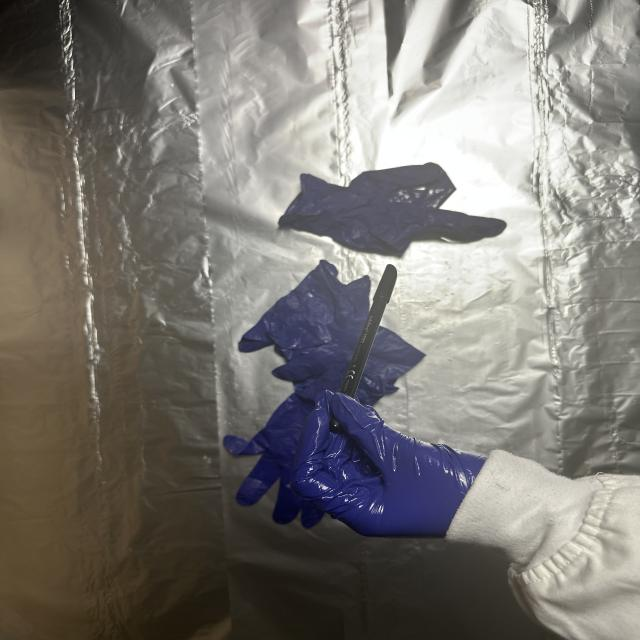gloves_contaminated: (291, 387, 484, 537)
